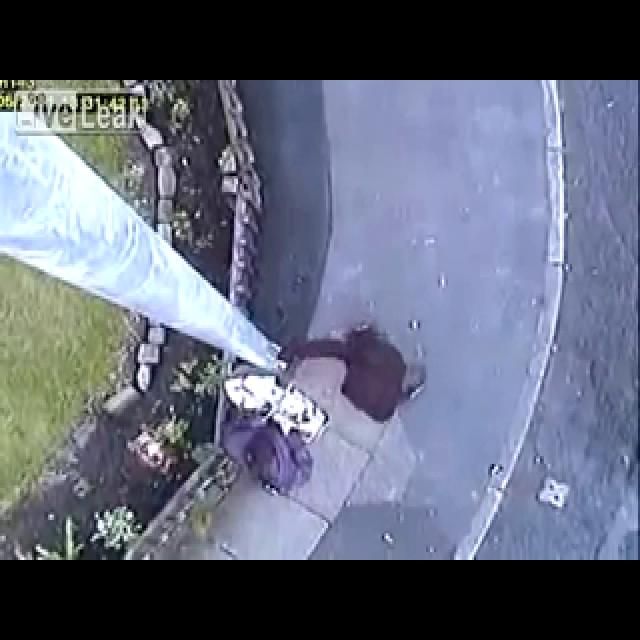vandalism: (162, 326, 366, 536)
